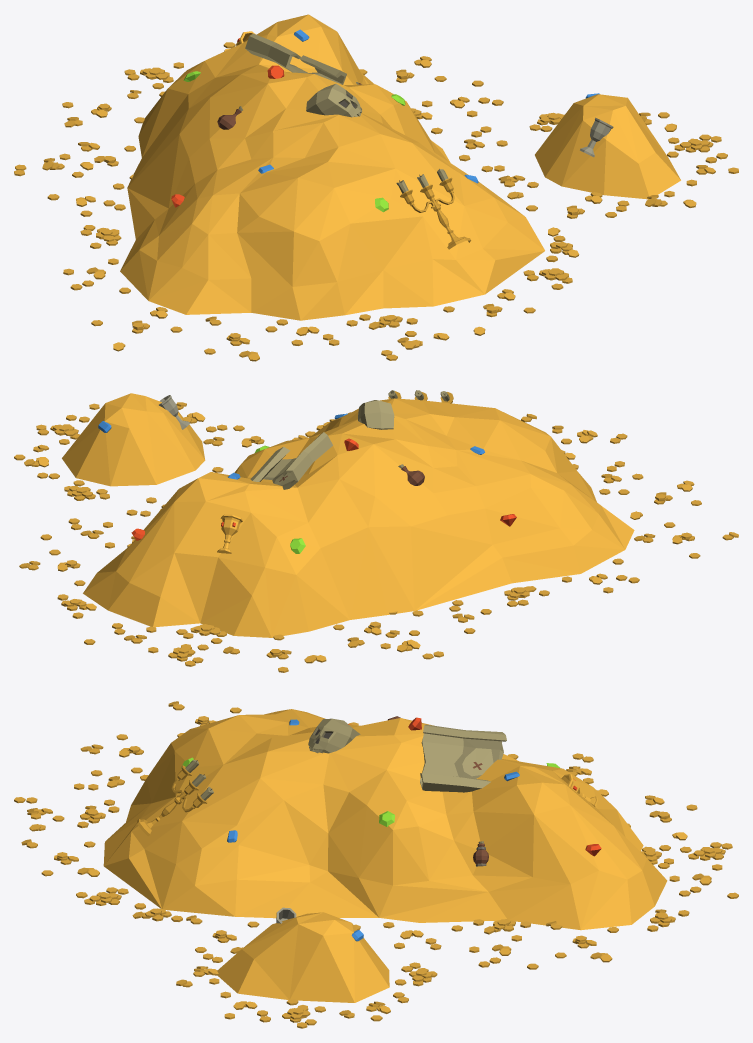
File: TreasurePile_5.fbx
3 views of the same model, one above another, from view 1: azimuth 30°, elevation 25°; view 2: azimuth 150°, elevation 25°; view 3: azimuth 270°, elevation 25° (orthographic). The views are drawn at different scales.
Parts seen in each view (by area): view 1: TreasurePile_5; view 2: TreasurePile_5; view 3: TreasurePile_5.
Part boxes in pixels (<box>): TreasurePile_5: <box>14,14,738,361</box>; TreasurePile_5: <box>14,390,738,672</box>; TreasurePile_5: <box>14,701,738,1028</box>.
Bounding box in the file's own units: 408 × 75.95 × 385.
